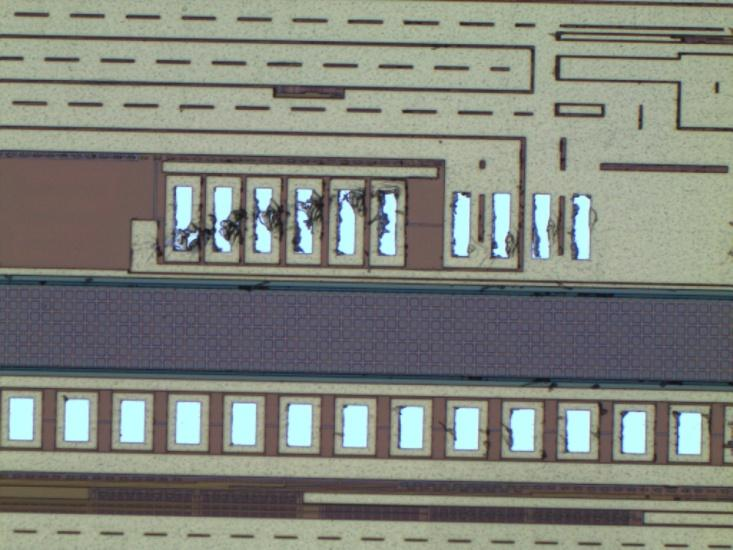SCRATCH: (28, 186, 599, 294)
